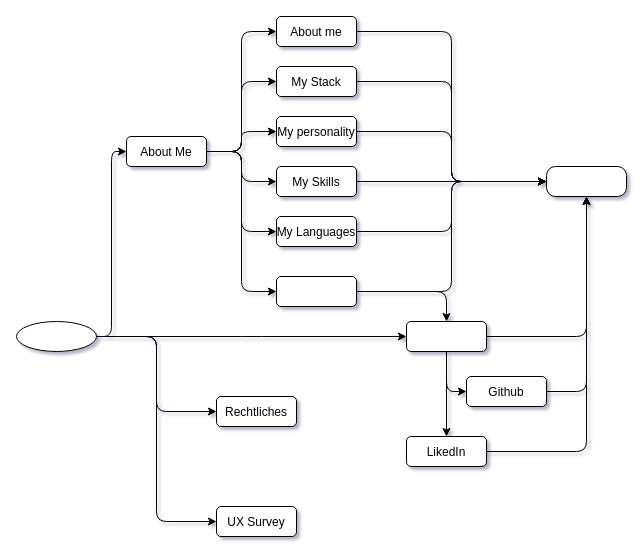
This 643x553 diagram has some shape labels left out. The centre of each missing label's shape, as x and y in pixels:
"Contact me" belongs at point 586,181.
"Landing Page" belongs at point 56,336.
"My philosophy" belongs at point 316,291.
"Questions?" belongs at point 446,336.
